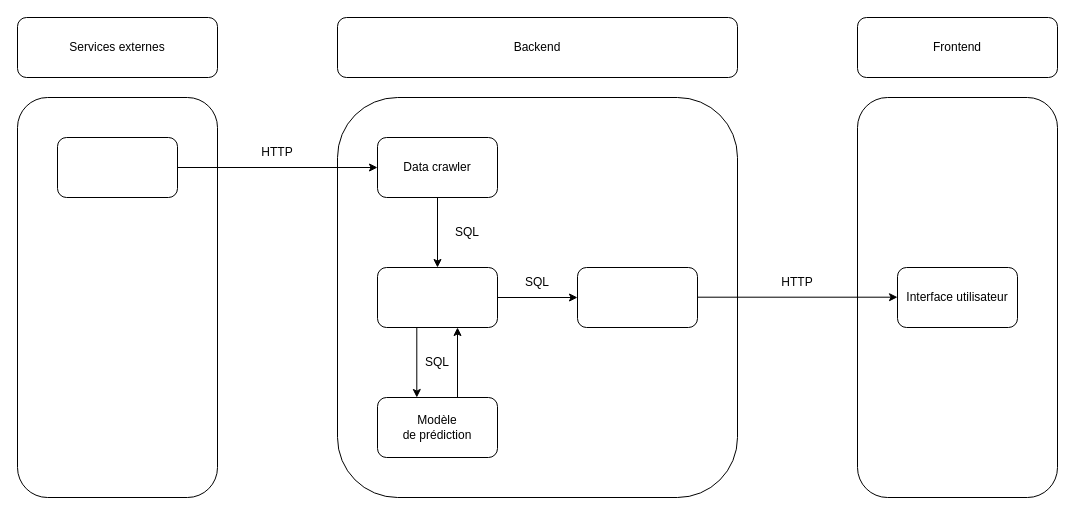
Some shapes in this 1075 by 515 pixel diagram are drawn without their labels. The shapes that lost their labels are listed below. From the top down, each one's centre as x and y in pixels, then its label:
At pixel 117 167: "API Open Data Rennes".
At pixel 437 297: "Base de données".
At pixel 637 297: "API".
